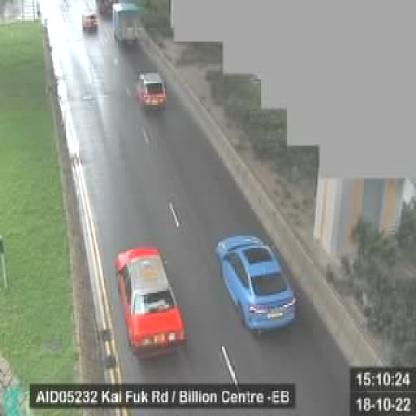Car: (214, 234, 299, 337), (112, 247, 188, 358), (133, 67, 167, 114), (82, 12, 101, 34)
Truck: (111, 2, 141, 48)
